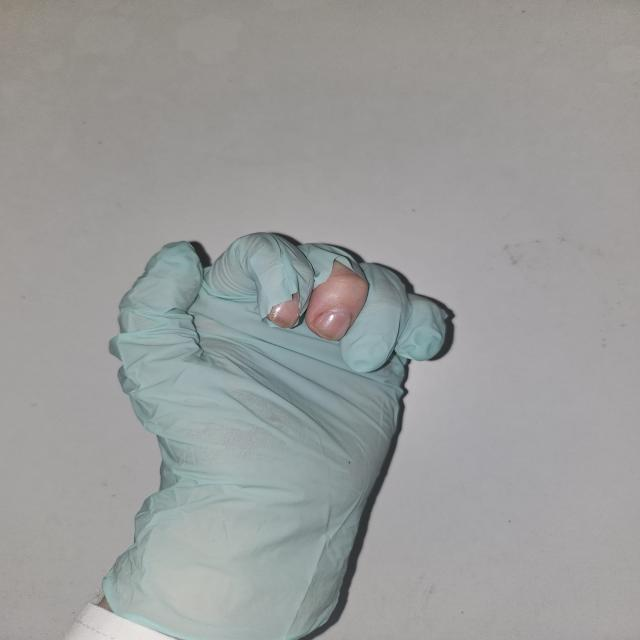gloves_damaged: (100, 230, 452, 640)
